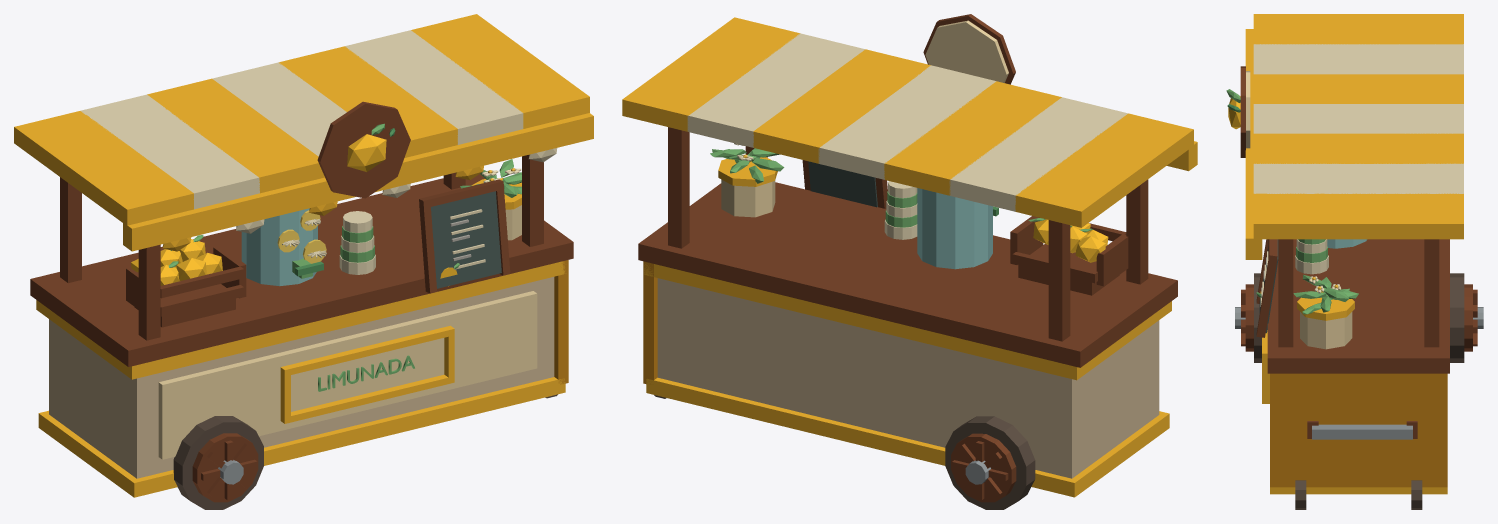
File: LemonadeStand.glb
3 renders of one model, left to right at view 1: azimuth 30°, elevation 25°; view 2: azimuth 150°, elevation 25°; view 3: azimuth 270°, elevation 25°, orthographic. The views are drawn at different scales.
Parts seen in each view (by area): view 1: LemonadeStand_countertop_wood, LemonadeStand_front_panel_light, LemonadeStand_cart_body_cream, LemonadeStand_awning_front_valance, LemonadeStand_awning_stripe_1, LemonadeStand_awning_stripe_7, LemonadeStand_bottom_yellow_trim, LemonadeStand_awning_stripe_6, LemonadeStand_awning_stripe_2, LemonadeStand_awning_stripe_3, LemonadeStand_top_yellow_trim, LemonadeStand_awning_stripe_5 (+21 smaller); view 2: LemonadeStand_cart_body_cream, LemonadeStand_countertop_wood, LemonadeStand_awning_stripe_1, LemonadeStand_awning_stripe_7, LemonadeStand_awning_stripe_5, LemonadeStand_awning_stripe_2, LemonadeStand_awning_stripe_3, LemonadeStand_bottom_yellow_trim, LemonadeStand_awning_stripe_4, LemonadeStand_awning_stripe_6, LemonadeStand_top_yellow_trim, LemonadeStand_dispenser_glass_outer (+15 smaller); view 3: LemonadeStand_thin_side_trim, LemonadeStand_countertop_wood, LemonadeStand_awning_stripe_7, LemonadeStand_awning_stripe_2, LemonadeStand_awning_stripe_5, LemonadeStand_awning_stripe_1, LemonadeStand_awning_stripe_6, LemonadeStand_awning_stripe_3, LemonadeStand_awning_stripe_4, LemonadeStand_awning_front_valance, LemonadeStand_wood_post_2, LemonadeStand_wood_post_4 (+17 smaller).
Boxes of the visible parts, x1,y1,x2,y2 form: LemonadeStand_countertop_wood: (30,174,573,366); LemonadeStand_front_panel_light: (158,291,537,459); LemonadeStand_cart_body_cream: (49,277,554,478); LemonadeStand_awning_front_valance: (123,113,593,251); LemonadeStand_awning_stripe_1: (14,111,193,225); LemonadeStand_awning_stripe_7: (411,14,589,128); LemonadeStand_bottom_yellow_trim: (38,377,565,497); LemonadeStand_awning_stripe_6: (345,30,523,144); LemonadeStand_awning_stripe_2: (80,94,259,209); LemonadeStand_awning_stripe_3: (147,78,324,193); LemonadeStand_top_yellow_trim: (36,261,566,379); LemonadeStand_awning_stripe_5: (279,46,457,157); LemonadeStand_cart_body_cream: (657,278,1159,478); LemonadeStand_countertop_wood: (638,182,1177,367); LemonadeStand_awning_stripe_1: (1015,113,1193,227); LemonadeStand_awning_stripe_7: (622,17,800,131); LemonadeStand_awning_stripe_5: (753,49,930,163); LemonadeStand_awning_stripe_2: (949,97,1127,211); LemonadeStand_awning_stripe_3: (884,81,1061,195); LemonadeStand_bottom_yellow_trim: (646,377,1169,497); LemonadeStand_awning_stripe_4: (818,65,996,179); LemonadeStand_awning_stripe_6: (687,33,864,147); LemonadeStand_top_yellow_trim: (644,264,1171,380); LemonadeStand_dispenser_glass_outer: (917,188,992,269); LemonadeStand_thin_side_trim: (1270,373,1447,487); LemonadeStand_countertop_wood: (1267,239,1449,373); LemonadeStand_awning_stripe_7: (1253,193,1463,239); LemonadeStand_awning_stripe_2: (1253,44,1463,74); LemonadeStand_awning_stripe_5: (1253,133,1463,163); LemonadeStand_awning_stripe_1: (1253,14,1463,44); LemonadeStand_awning_stripe_6: (1253,163,1463,193); LemonadeStand_awning_stripe_3: (1253,74,1463,103); LemonadeStand_awning_stripe_4: (1253,104,1463,133); LemonadeStand_awning_front_valance: (1245,29,1262,259); LemonadeStand_wood_post_2: (1278,239,1293,347); LemonadeStand_wood_post_4: (1424,239,1439,347).
Size of the model in its own units: 5.31 by 4.15 by 2.75.
